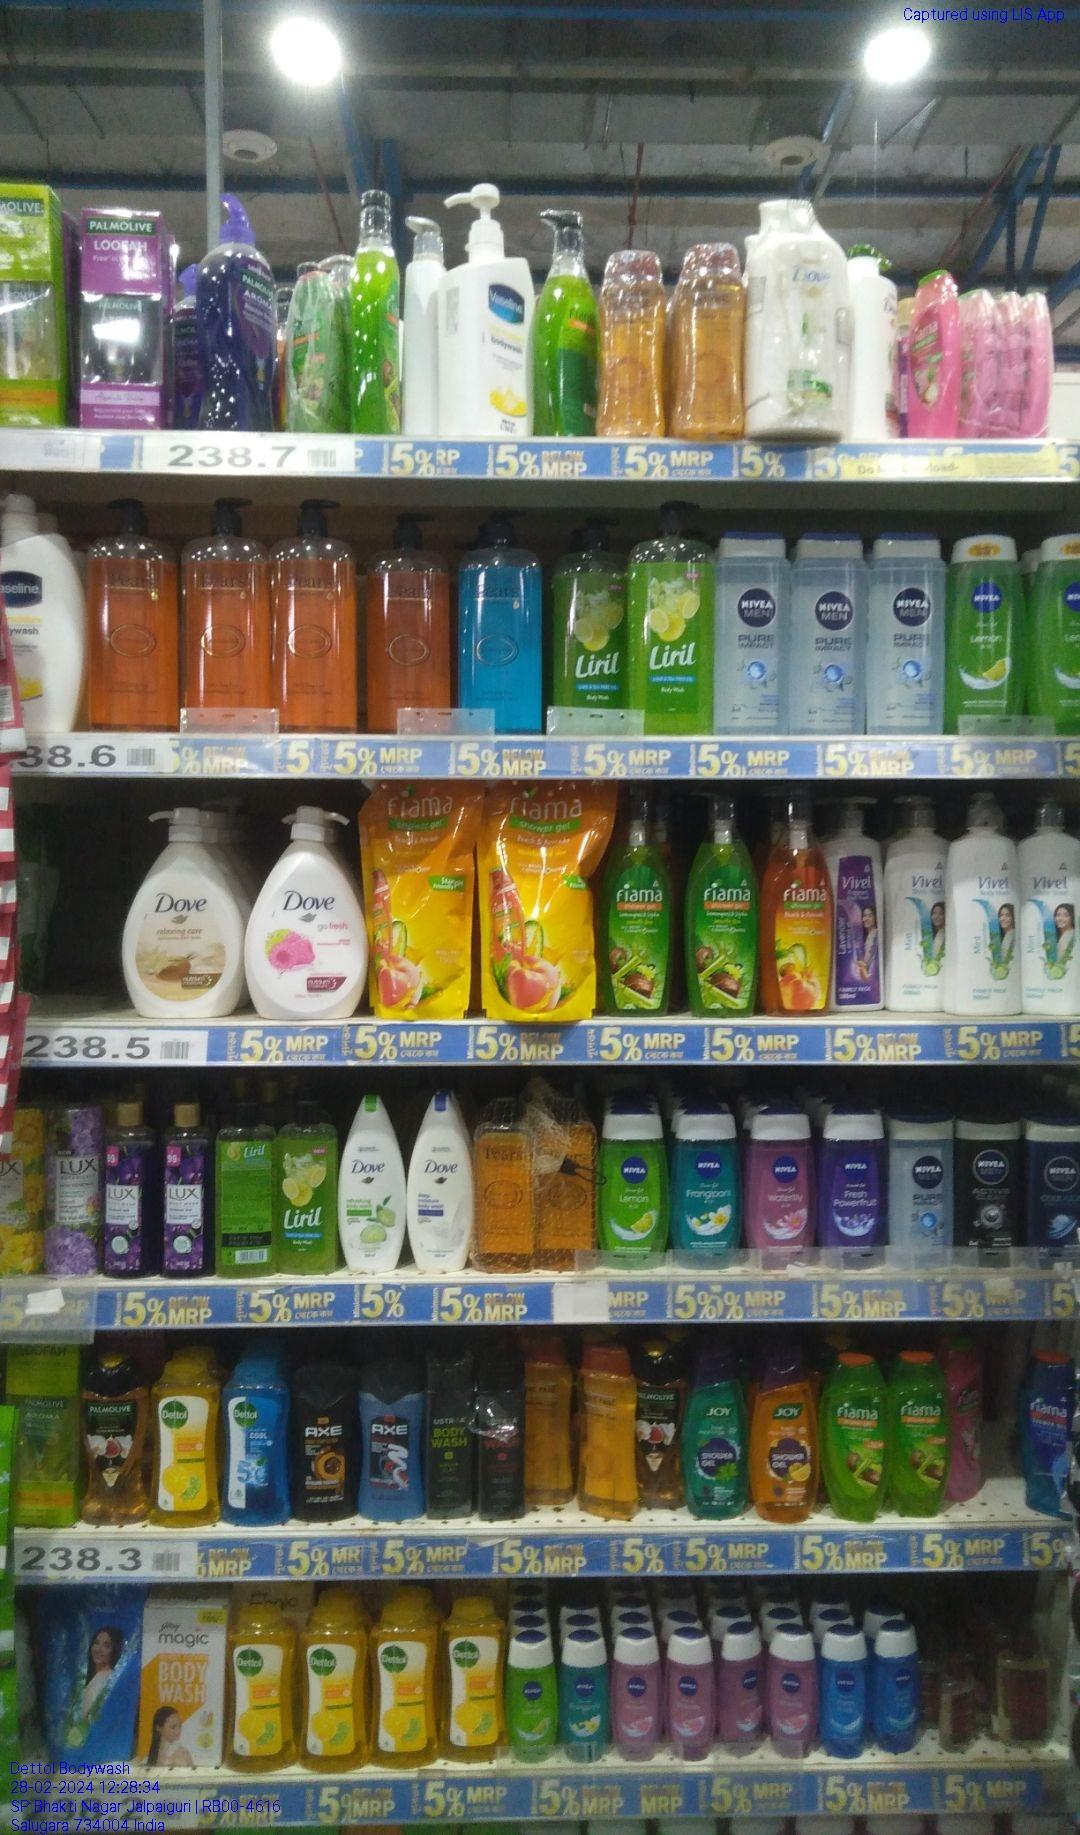Dettol_Bodywash_Cool: (225, 1360, 292, 1528)
Dettol_Bodywash_Refresh: (298, 1601, 365, 1777), (153, 1357, 221, 1528), (369, 1600, 438, 1767), (226, 1605, 294, 1772), (447, 1599, 504, 1763)
Dove_Deep_Moisture_Body_Wash_250ML: (409, 1091, 471, 1275)
Dove_Refreshing_Body_Wash_250ML: (338, 1094, 406, 1273)
Fiama_Shower_Gel_Lemongrass_and_Jojoba_250ML: (827, 1351, 888, 1524), (892, 1348, 946, 1521)
Fiama_Shower_Gel_Patchouli_and_Macadamia_250ML: (905, 270, 959, 439)
Get_Real_Shower_Gel_Moisturising_Glycerin_300ML: (678, 239, 741, 442), (600, 252, 662, 439), (579, 1344, 635, 1523), (519, 1340, 573, 1510)
Joy_Shower_Gel_Mandarin_and_Lemongrass_250ML: (752, 1354, 819, 1525)
Joy_Shower_Gel_Mint_and_Eucalyptus_250ML: (685, 1352, 748, 1525)
Liril_Lime_and_Tea_Tree_Oil_Body_Wash_250ML: (274, 1097, 333, 1275)
Lux_Black_Orchid_Scent_and_Juniper_Oil_Body_Wash_245ML: (159, 1105, 212, 1277), (104, 1097, 152, 1277)
Nivea_Shower_Gel_Frangipani_and_Oil_250ML: (676, 1106, 743, 1276)
Nivea_Shower_Gel_Fresh_Powerfruit_250ML: (820, 1105, 887, 1268)
Nivea_Shower_Gel_Lemon_and_Oil_250ML: (949, 533, 1023, 739), (602, 1106, 669, 1272), (1029, 526, 1080, 738)
Nivea_Shower_Gel_Waterlily_and_Oil_250ML: (750, 1109, 815, 1273)
Palmolive_Luminous_Oils_With_White_Orchid_Shower_Gel_250ML: (80, 1353, 148, 1528), (634, 1344, 683, 1516)
